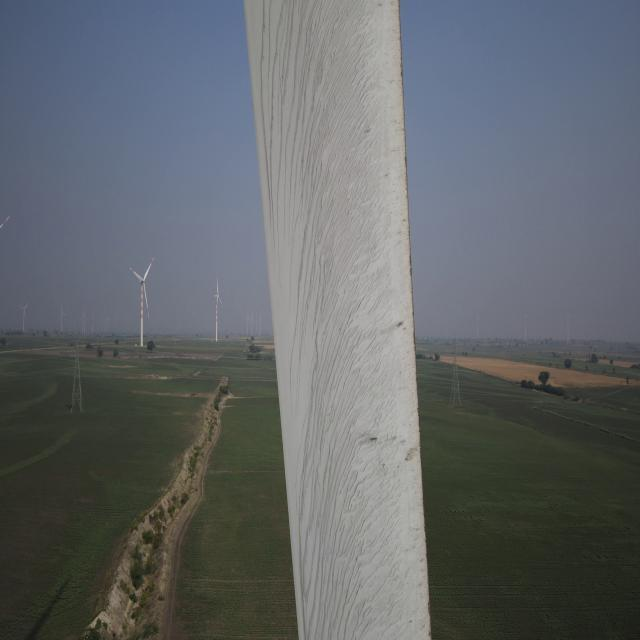Dirt: (255, 0, 437, 640)
Pin Hole: (366, 429, 387, 452), (395, 316, 403, 334)
